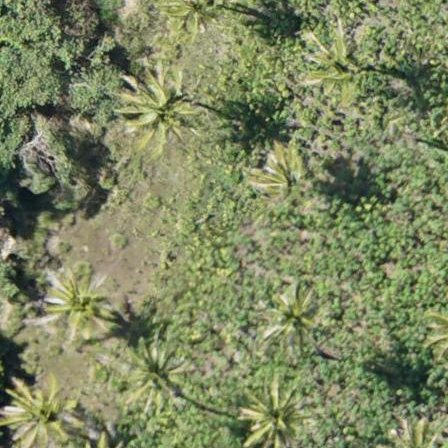palm_tree: (120, 63, 199, 147), (37, 262, 111, 340), (248, 141, 317, 211), (4, 375, 68, 444), (298, 33, 362, 91), (122, 343, 184, 399), (243, 391, 304, 445), (264, 287, 320, 340), (157, 1, 229, 41)
